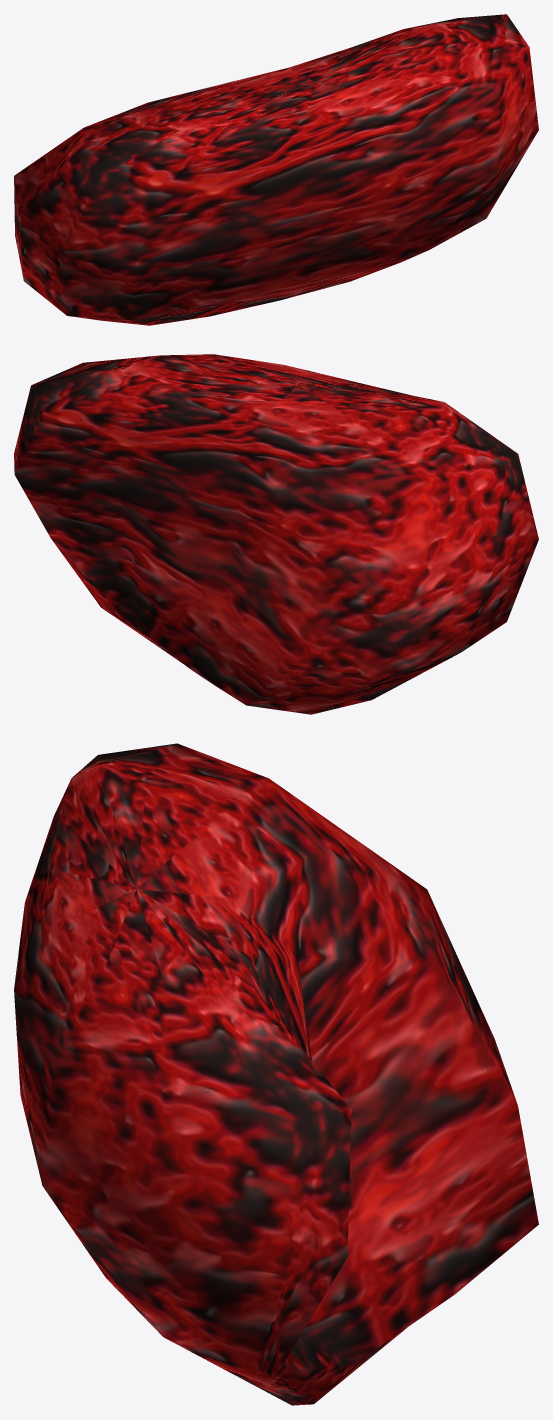
Rendered from MeatPiece_1.FBX.
The picture shows the model from 3 angles, top to bottom: view 1: azimuth 30°, elevation 25°; view 2: azimuth 150°, elevation 25°; view 3: azimuth 270°, elevation 25°; orthographic projection. The views are drawn at different scales.
Parts seen in each view (by area): view 1: Sphere001; view 2: Sphere001; view 3: Sphere001.
Part boxes in pixels (x1,y1,x2,y2): Sphere001: (14,14,538,325); Sphere001: (14,354,538,714); Sphere001: (14,743,538,1405).
Bounding box in the file's own units: 56.05 × 27.56 × 30.2.
